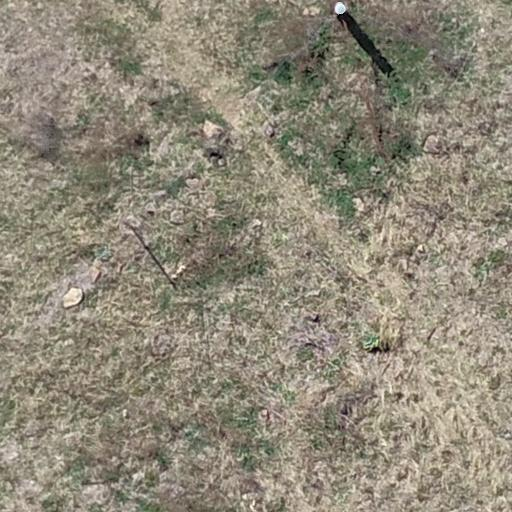stone: (180, 181, 216, 214), (120, 128, 150, 152), (80, 483, 111, 505), (150, 332, 175, 358), (154, 133, 174, 162), (241, 489, 262, 512), (423, 132, 443, 156), (265, 117, 280, 145), (286, 138, 307, 158), (338, 403, 352, 431), (126, 213, 146, 231), (201, 122, 223, 136), (303, 338, 325, 352), (169, 264, 186, 282), (299, 310, 320, 324), (245, 85, 263, 101), (60, 290, 83, 302), (248, 217, 264, 234), (150, 189, 168, 204), (144, 200, 158, 219), (344, 71, 361, 86), (184, 177, 202, 191), (230, 136, 244, 154), (352, 196, 366, 214), (302, 6, 320, 18), (171, 210, 185, 225), (89, 269, 101, 284), (258, 408, 270, 422), (368, 164, 382, 176), (427, 326, 437, 342), (417, 242, 428, 256), (311, 286, 323, 298), (148, 98, 160, 108), (340, 404, 350, 416), (120, 406, 130, 416), (216, 157, 226, 167), (242, 493, 250, 501), (479, 27, 486, 34)
